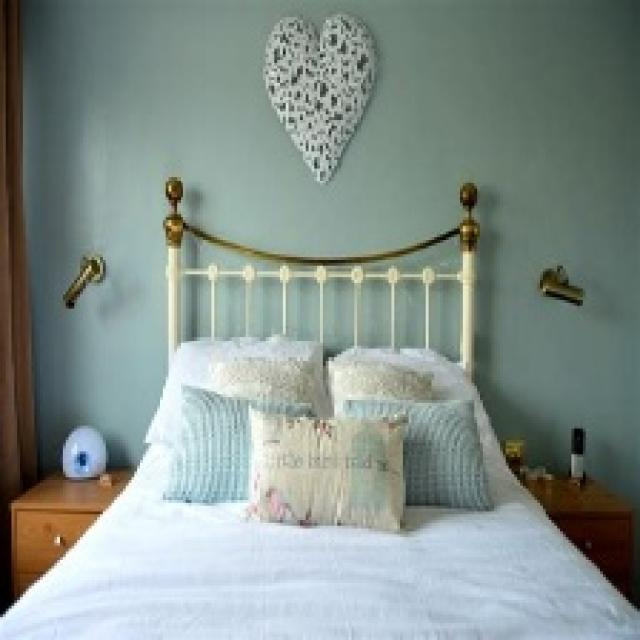Bed: (0, 174, 637, 637)
